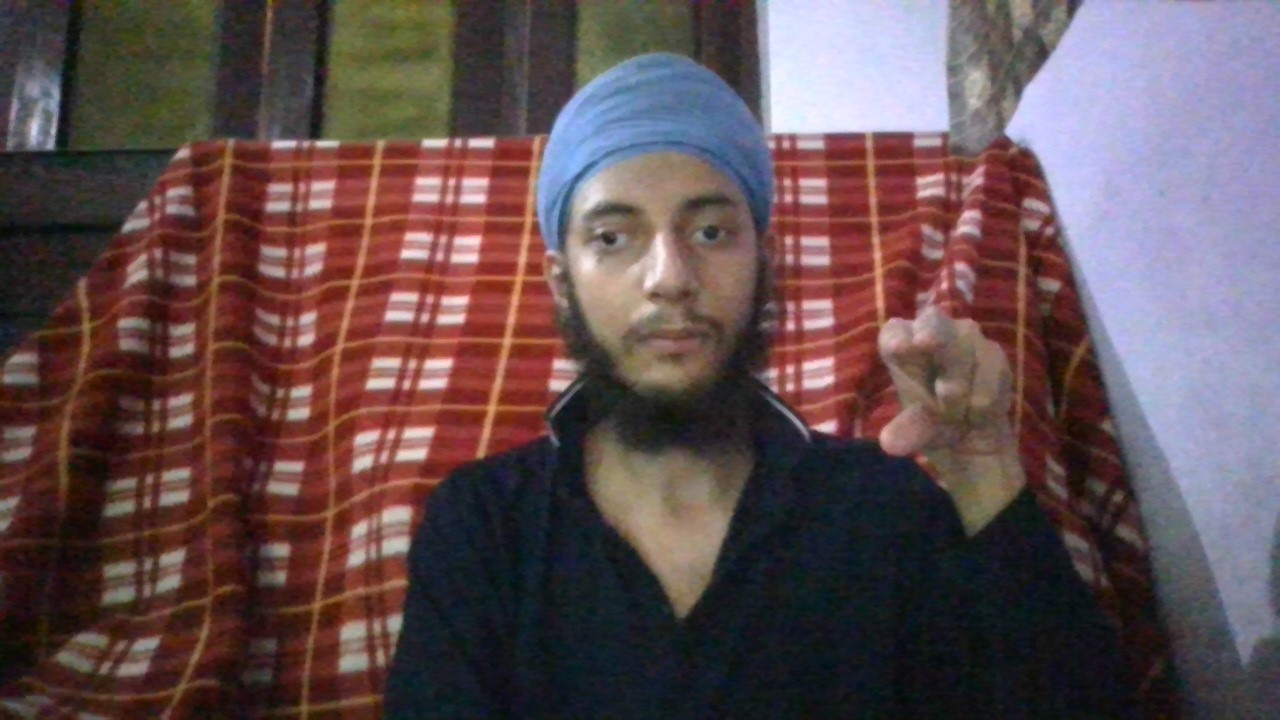No: (870, 307, 1017, 463)
